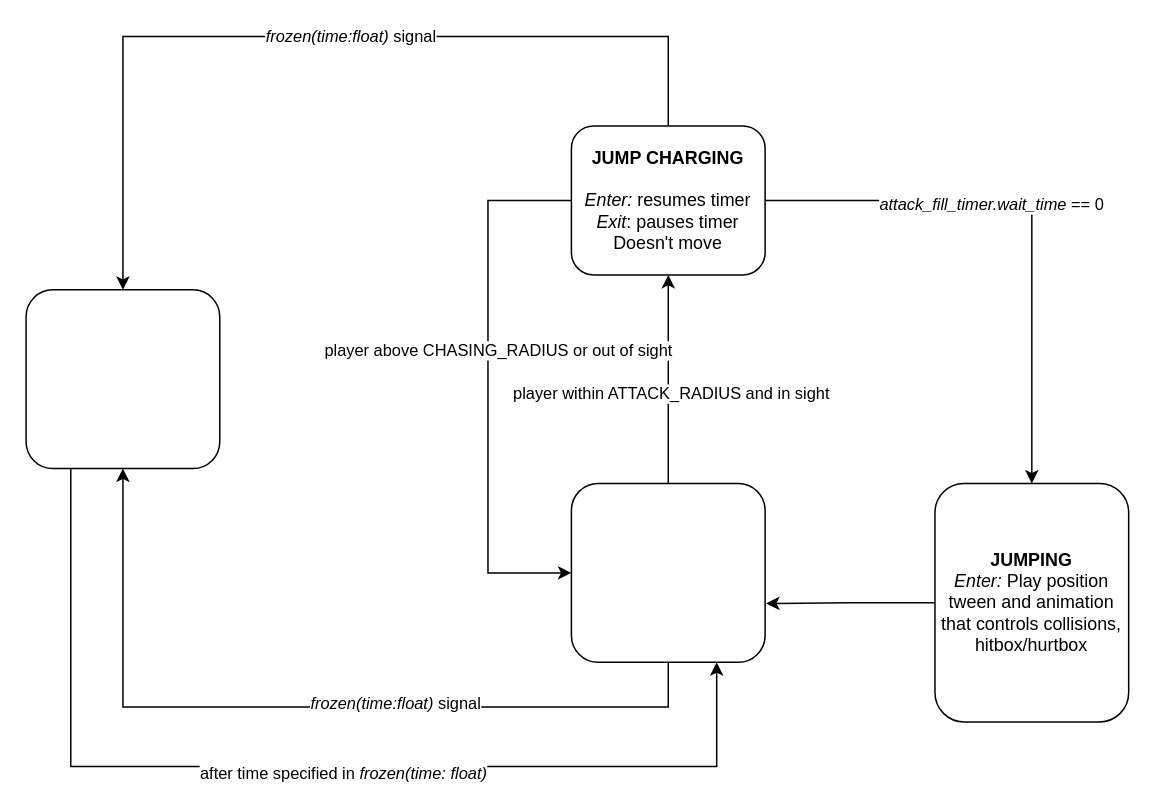
Image size: 1155x809. Some labels were removed from this diagram. The centre of each missing label's shape, as x and y in pixels:
"CHASING Pathfinds towards player" belongs at (667,572).
"FREEZING Does not move" belongs at (122,378).
